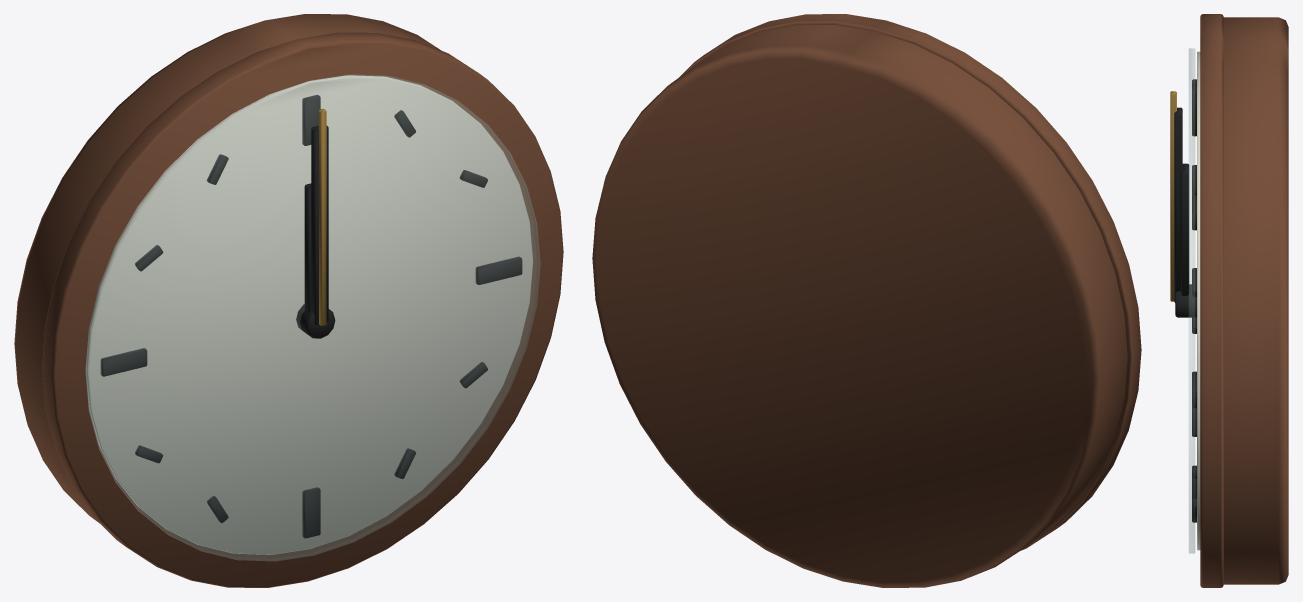
Rendered from asset_087_wall_clock.glb.
3 views of the same model, side by side, from view 1: azimuth 30°, elevation 25°; view 2: azimuth 150°, elevation 25°; view 3: azimuth 270°, elevation 25° (orthographic). The views are drawn at different scales.
Parts seen in each view (by area): view 1: MESH_ClockGlass, MESH_ClockFace, MESH_ClockBezel, MESH_ClockCase, MESH_ClockDial, MESH_ClockMinuteHand, MESH_ClockSecondHand, MESH_ClockHourHand, MESH_ClockBoss; view 2: MESH_ClockCase, MESH_ClockBezel; view 3: MESH_ClockCase, MESH_ClockBezel, MESH_ClockGlass, MESH_ClockFace, MESH_ClockDial, MESH_ClockMinuteHand, MESH_ClockHourHand, MESH_ClockSecondHand, MESH_ClockBoss.
Boxes of the visible parts, x1,y1,x2,y2 form: MESH_ClockGlass: (85, 74, 540, 561); MESH_ClockFace: (85, 75, 533, 554); MESH_ClockBezel: (42, 32, 563, 587); MESH_ClockCase: (14, 14, 440, 523); MESH_ClockDial: (100, 95, 522, 538); MESH_ClockMinuteHand: (311, 125, 328, 324); MESH_ClockSecondHand: (318, 109, 326, 325); MESH_ClockHourHand: (304, 183, 311, 313); MESH_ClockBoss: (296, 304, 335, 338); MESH_ClockCase: (592, 25, 1127, 587); MESH_ClockBezel: (680, 14, 1141, 550); MESH_ClockCase: (1223, 17, 1288, 584); MESH_ClockBezel: (1200, 14, 1223, 587); MESH_ClockGlass: (1189, 48, 1194, 553); MESH_ClockFace: (1197, 51, 1200, 550); MESH_ClockDial: (1192, 79, 1196, 522); MESH_ClockMinuteHand: (1174, 107, 1182, 302); MESH_ClockHourHand: (1181, 163, 1189, 295); MESH_ClockSecondHand: (1170, 91, 1176, 301); MESH_ClockBoss: (1175, 284, 1196, 317).
Bounding box in the file's own units: 0.344 × 0.344 × 0.071.
